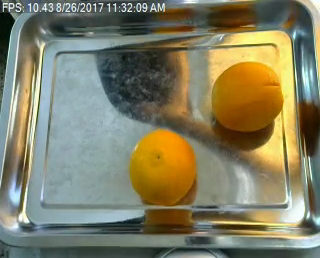Orange: (210, 61, 284, 133), (130, 129, 197, 206)
